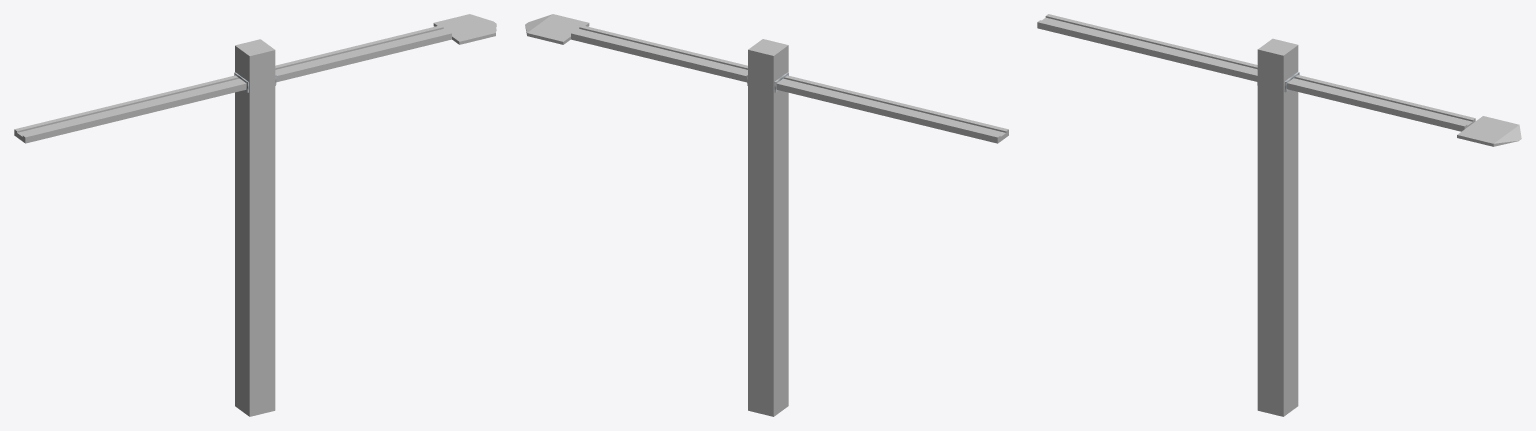
Rendered from mechanical arm.obj.
3 renders of one model, left to right at view 1: azimuth 30°, elevation 25°; view 2: azimuth 150°, elevation 25°; view 3: azimuth 330°, elevation 25°, orthographic.
Parts seen in each view (by area): view 1: Cube_Cube.003, Cube.001_Cube.002; view 2: Cube_Cube.003, Cube.001_Cube.002; view 3: Cube_Cube.003, Cube.001_Cube.002.
Boxes of the visible parts, x1,y1,x2,y2 form: Cube_Cube.003: [235, 39, 275, 416]; Cube.001_Cube.002: [14, 14, 496, 143]; Cube_Cube.003: [748, 39, 788, 416]; Cube.001_Cube.002: [525, 14, 1008, 143]; Cube_Cube.003: [1257, 38, 1298, 416]; Cube.001_Cube.002: [1037, 14, 1521, 146].
Size of the model in its own units: 7.4 by 5.36 by 0.7.
